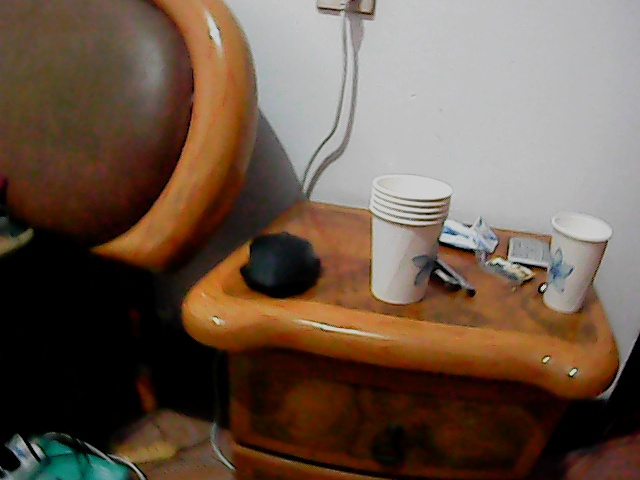cup: (365, 173, 453, 309)
mouse: (237, 226, 320, 297)
